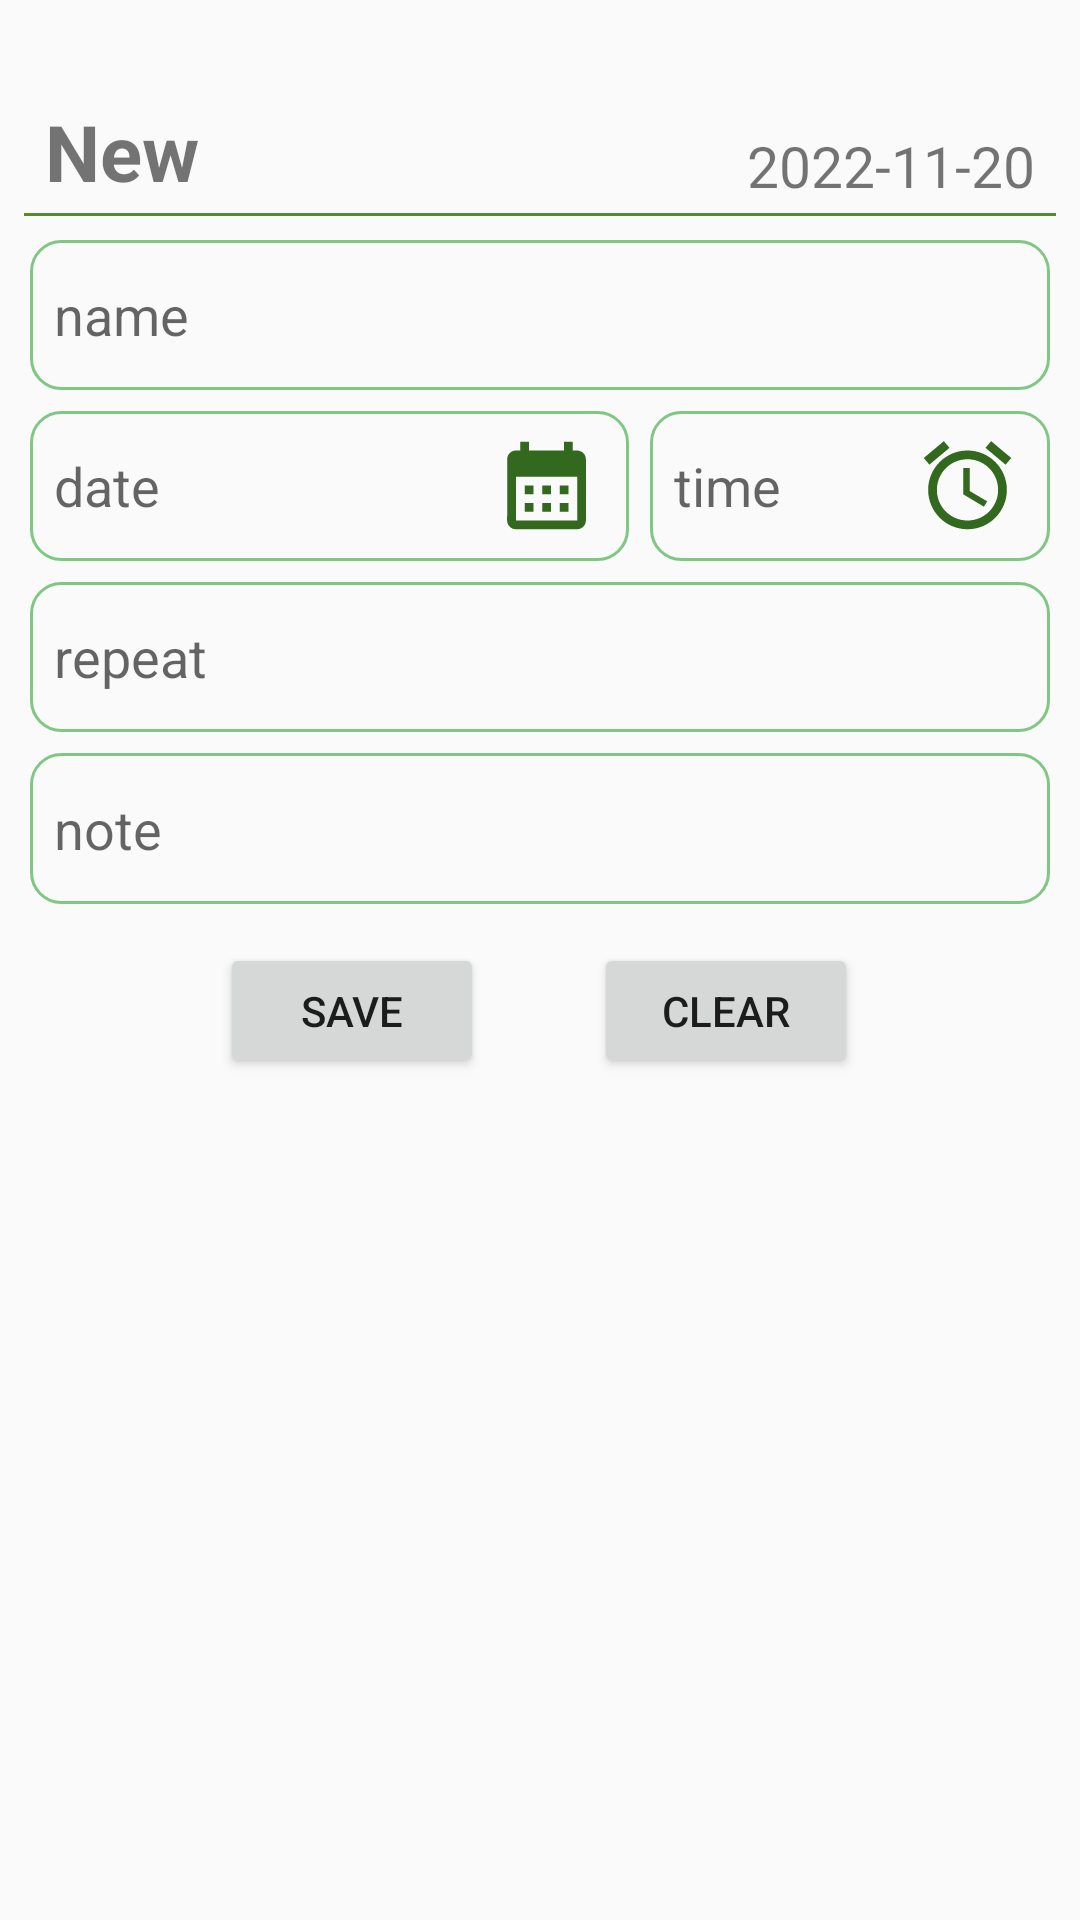

Point at icon controls on the screen. Image size 1080px×1920px, points as (x=x, y=y).
alarm: (x=967, y=485)
calendar month: (x=546, y=485)
